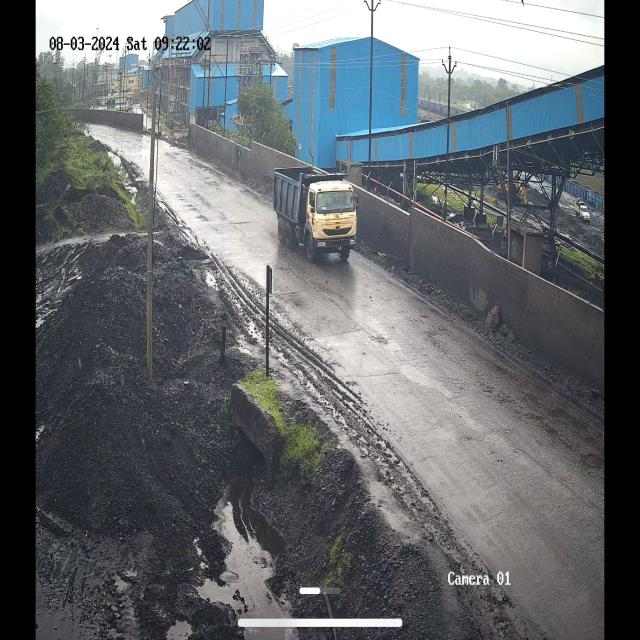dump_truck: (272, 161, 357, 266)
